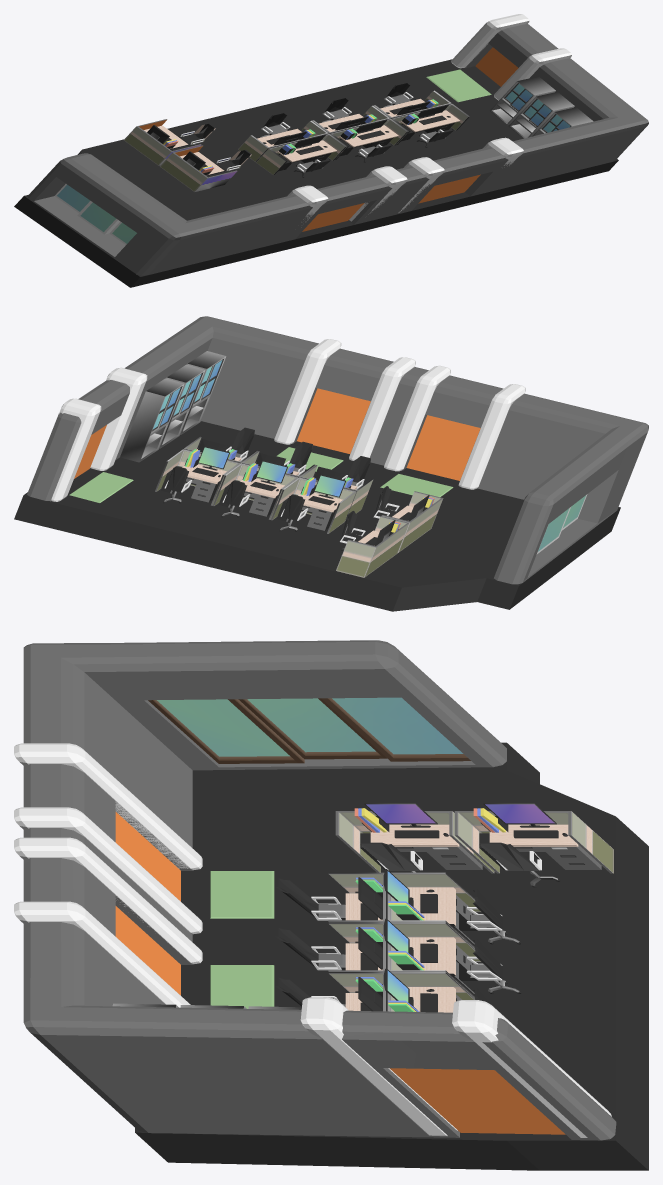
The picture shows the model from 3 angles, top to bottom: view 1: azimuth 30°, elevation 25°; view 2: azimuth 150°, elevation 25°; view 3: azimuth 270°, elevation 25°; orthographic projection. The views are drawn at different scales.
Parts seen in each view (by area): view 1: Cube.008, 地板.005, Cube.001, 門框.005, Cube.002, Cube.003, Cube.017, Plane.008, door01.004, door01.002, door01.003; view 2: Cube.008, 地板.005, 門框.005, Cube.001, Cube.003, Cube.002, door01.003, door01.002, Plane.008, Cube.017, door01.004; view 3: Cube.008, 地板.005, 門框.005, Cube.001, Cube.017, Cube.002, door01.004, Plane.008, door01.002, door01.003.
Boxes of the visible parts, x1,y1,x2,y2 form: Cube.008: (27,23,648,275); 地板.005: (14,59,618,287); Cube.001: (238,82,469,177); 門框.005: (287,14,571,227); Cube.002: (124,119,251,191); Cube.003: (490,76,593,138); Cube.017: (55,184,136,244); Plane.008: (426,69,491,102); door01.004: (475,47,518,86); door01.002: (418,174,480,203); door01.003: (302,203,364,231); Cube.008: (27,316,648,584); 地板.005: (14,421,620,611); 門框.005: (51,339,525,501); Cube.001: (155,427,373,533); Cube.003: (120,351,226,462); Cube.002: (336,486,443,577); door01.003: (406,415,480,480); door01.002: (297,388,370,453); Plane.008: (69,447,453,502); Cube.017: (536,494,587,554); door01.004: (74,425,106,478); Cube.008: (23,640,616,1140); 地板.005: (135,742,648,1170); 門框.005: (14,743,611,1137); Cube.001: (275,869,521,1012); Cube.017: (148,697,470,763); Cube.002: (335,802,613,887); door01.004: (390,1068,565,1134); Plane.008: (210,871,274,1008); door01.002: (115,906,180,995); door01.003: (115,812,180,901).
Size of the model in its own units: 2451 by 415 by 1652.
2 materials, 1 textured.
